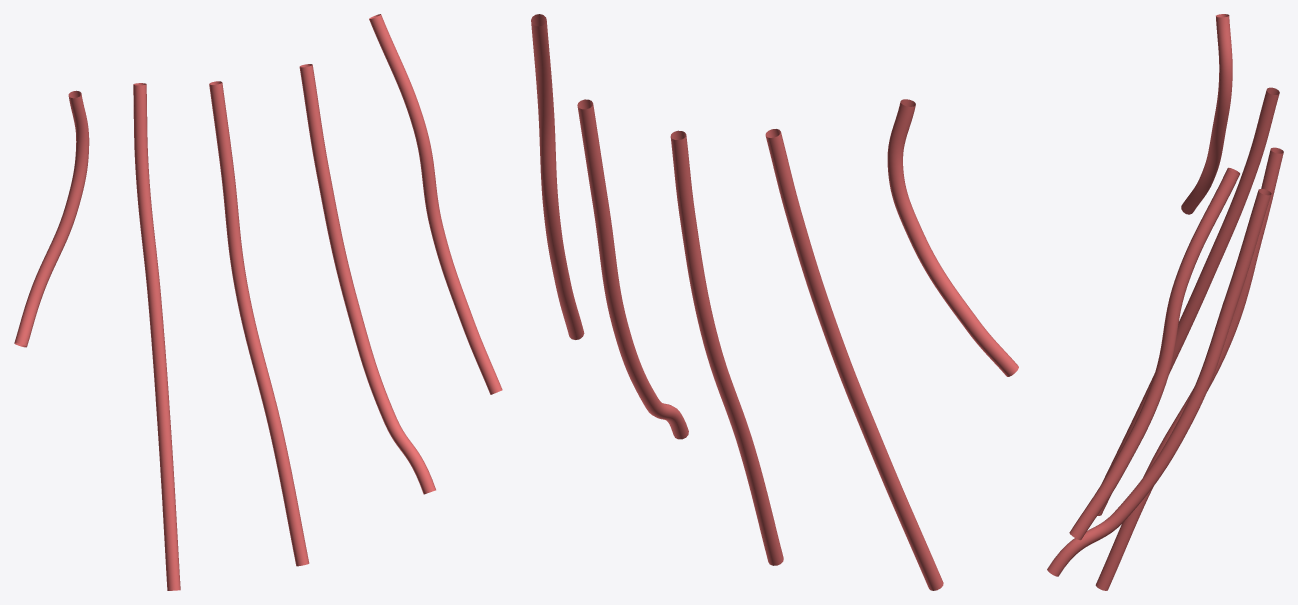
File: Dorsal_metacarpal_arteries.r_BezierCurve.281.glb
3 renders of one model, left to right at view 1: azimuth 30°, elevation 25°; view 2: azimuth 150°, elevation 25°; view 3: azimuth 270°, elevation 25°, orthographic. The views are drawn at different scales.
Visible parts, largest first — view 1: Dorsal_metacarpal_arteries.r_BezierCurve.281; view 2: Dorsal_metacarpal_arteries.r_BezierCurve.281; view 3: Dorsal_metacarpal_arteries.r_BezierCurve.281.
Part boxes in pixels (x1,y1,x2,y2): Dorsal_metacarpal_arteries.r_BezierCurve.281: [14, 14, 502, 590]; Dorsal_metacarpal_arteries.r_BezierCurve.281: [531, 14, 1018, 590]; Dorsal_metacarpal_arteries.r_BezierCurve.281: [1047, 14, 1283, 590].
Bounding box in the file's own units: 0.0633 × 0.0662 × 0.029.
